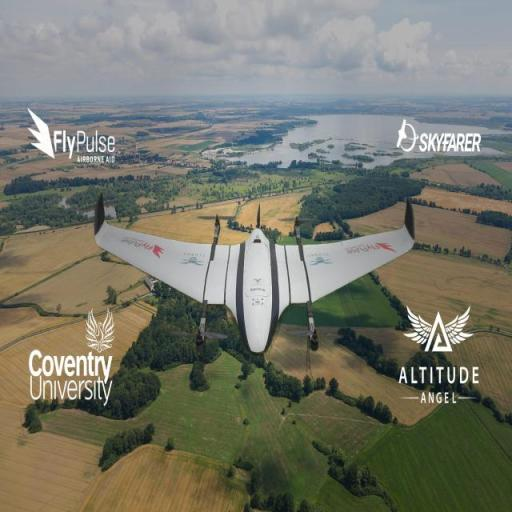uav: (92, 185, 422, 357)
